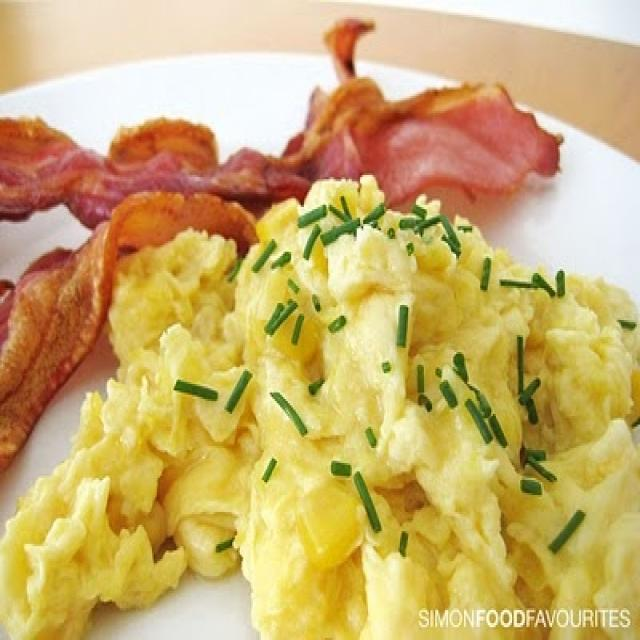鸡蛋料理: (13, 13, 629, 631)
